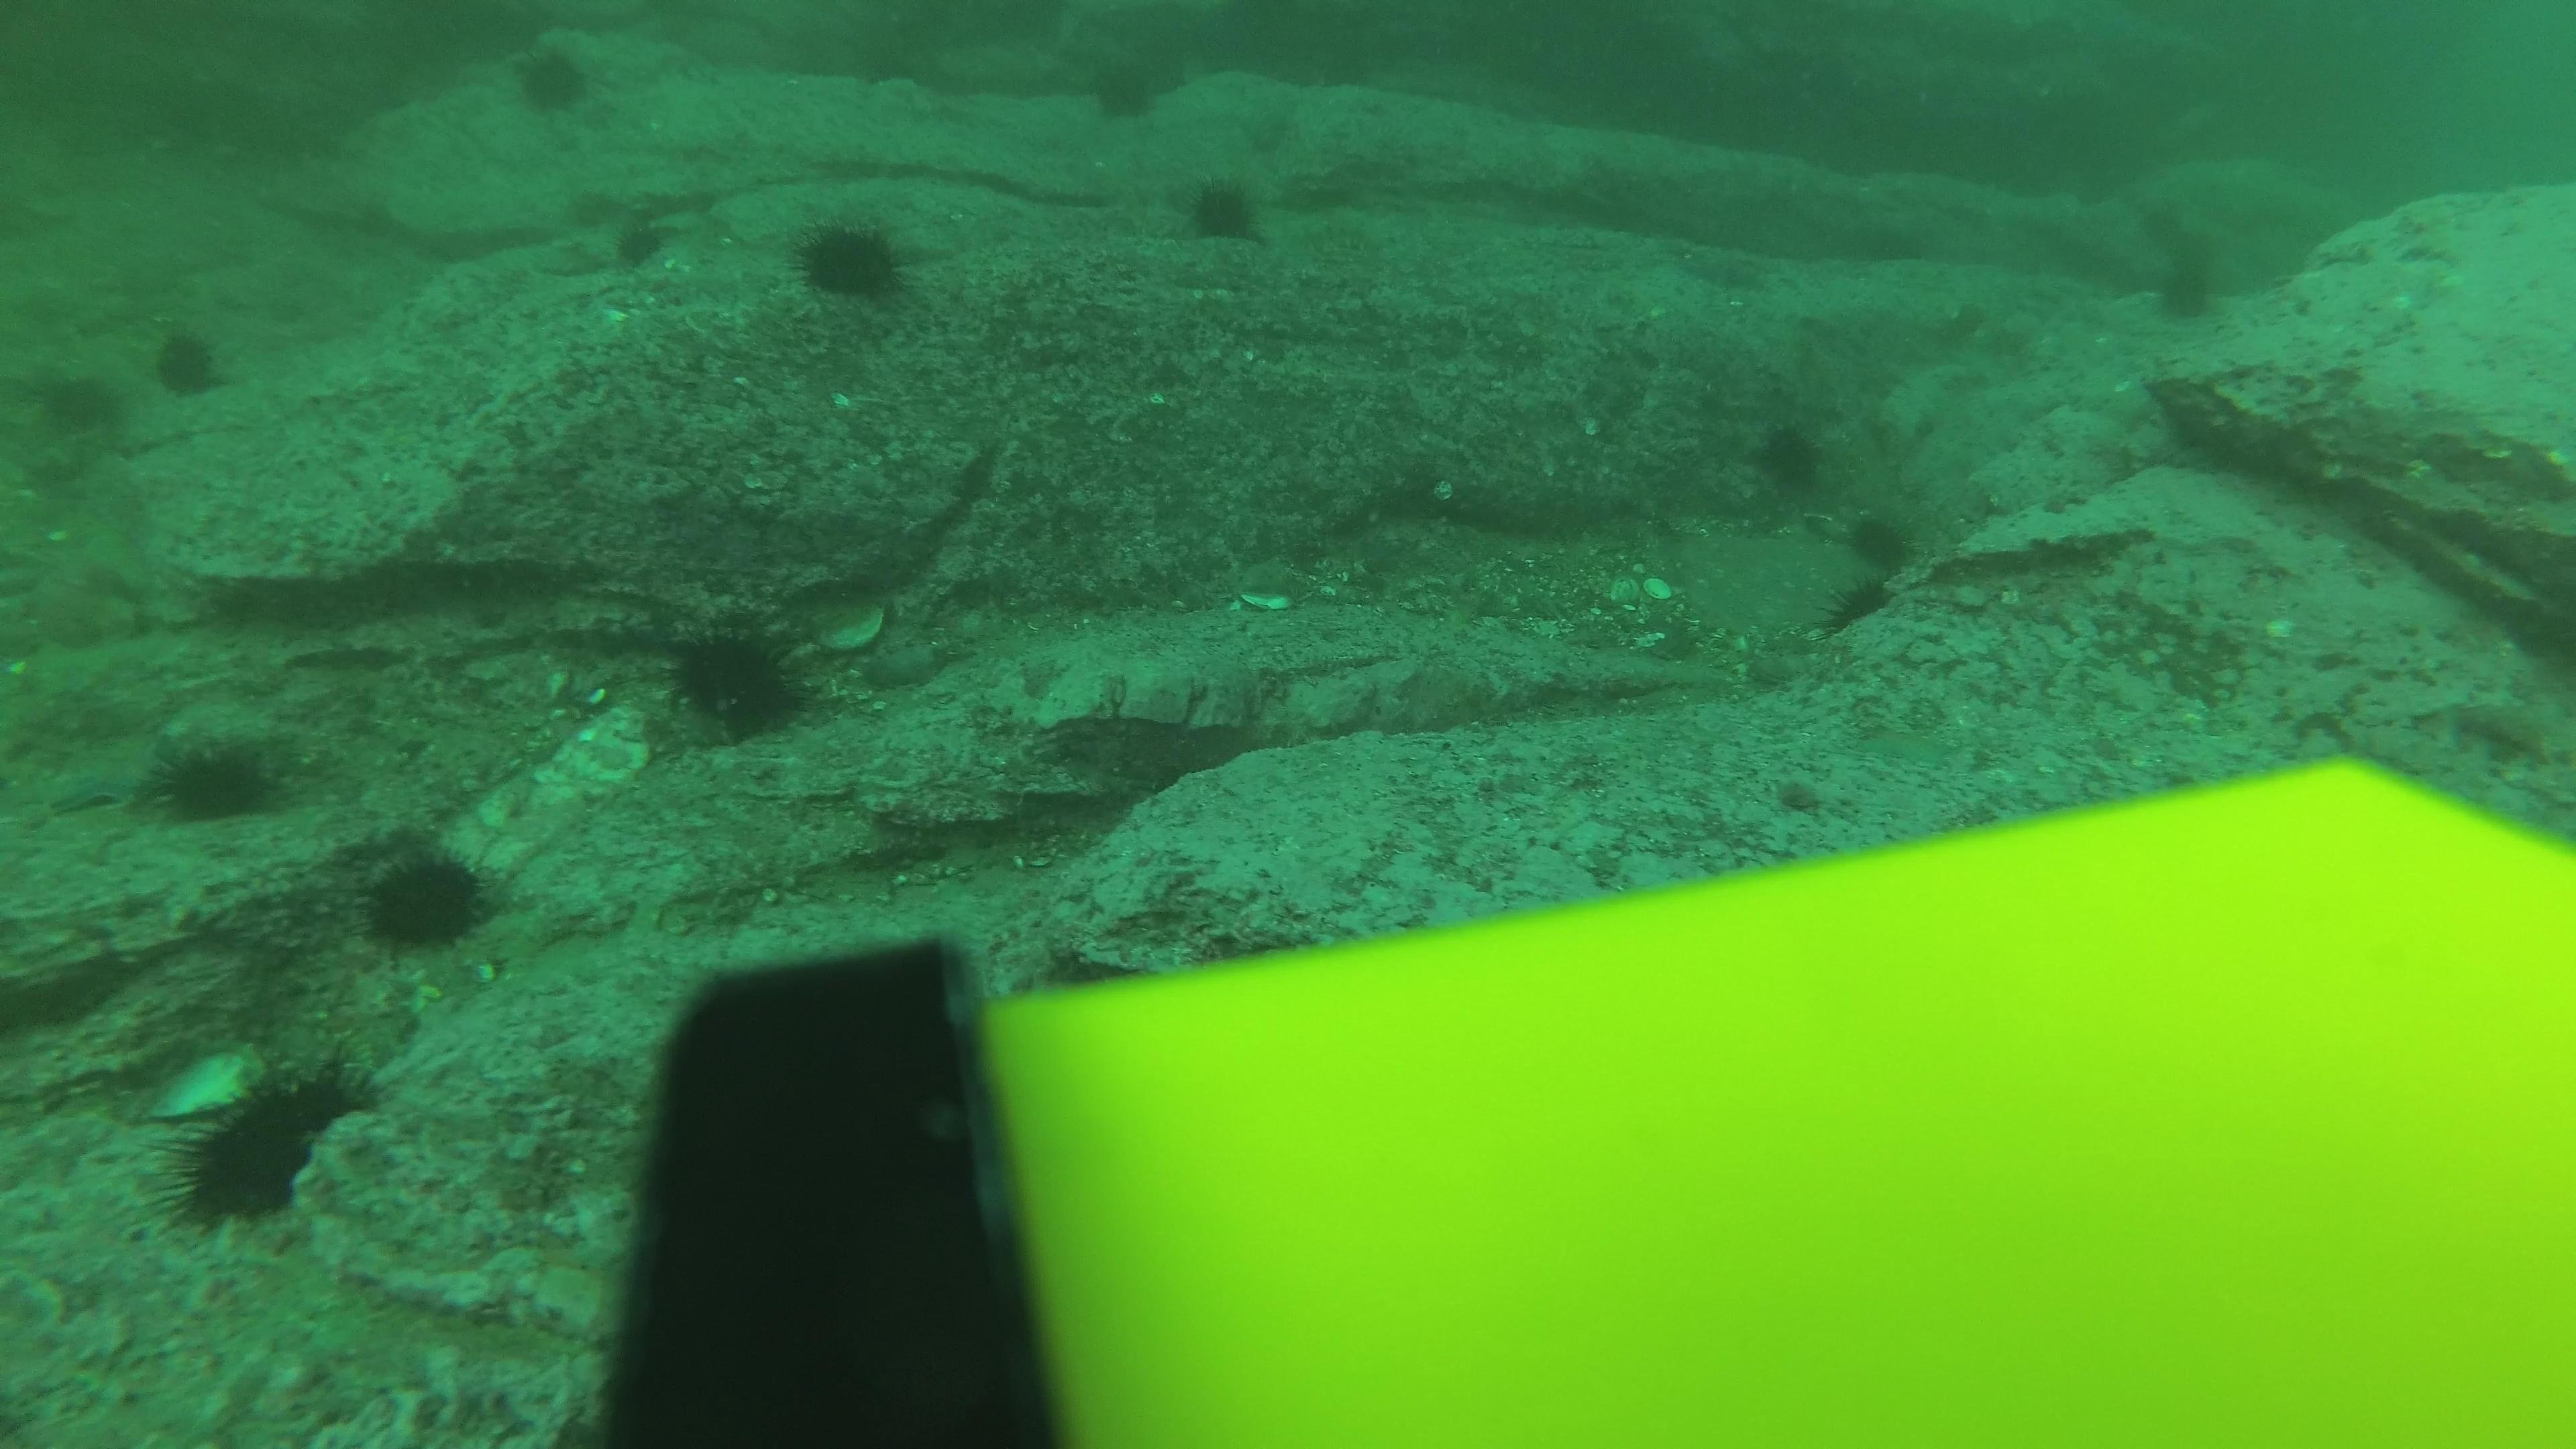echinus: (154, 1049, 377, 1237), (662, 616, 816, 745), (356, 840, 497, 957), (142, 729, 287, 832), (789, 211, 915, 310), (30, 364, 131, 446), (504, 39, 602, 120), (2143, 244, 2231, 327), (1746, 416, 1835, 499), (1177, 172, 1270, 249), (1838, 506, 1921, 589), (145, 322, 232, 402), (1083, 55, 1166, 126), (1822, 573, 1905, 644), (607, 211, 674, 274)
starfish: (35, 731, 172, 816)
